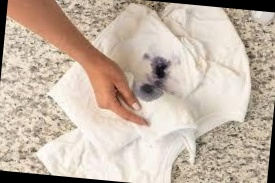ink: (139, 82, 164, 101), (150, 58, 170, 80)
